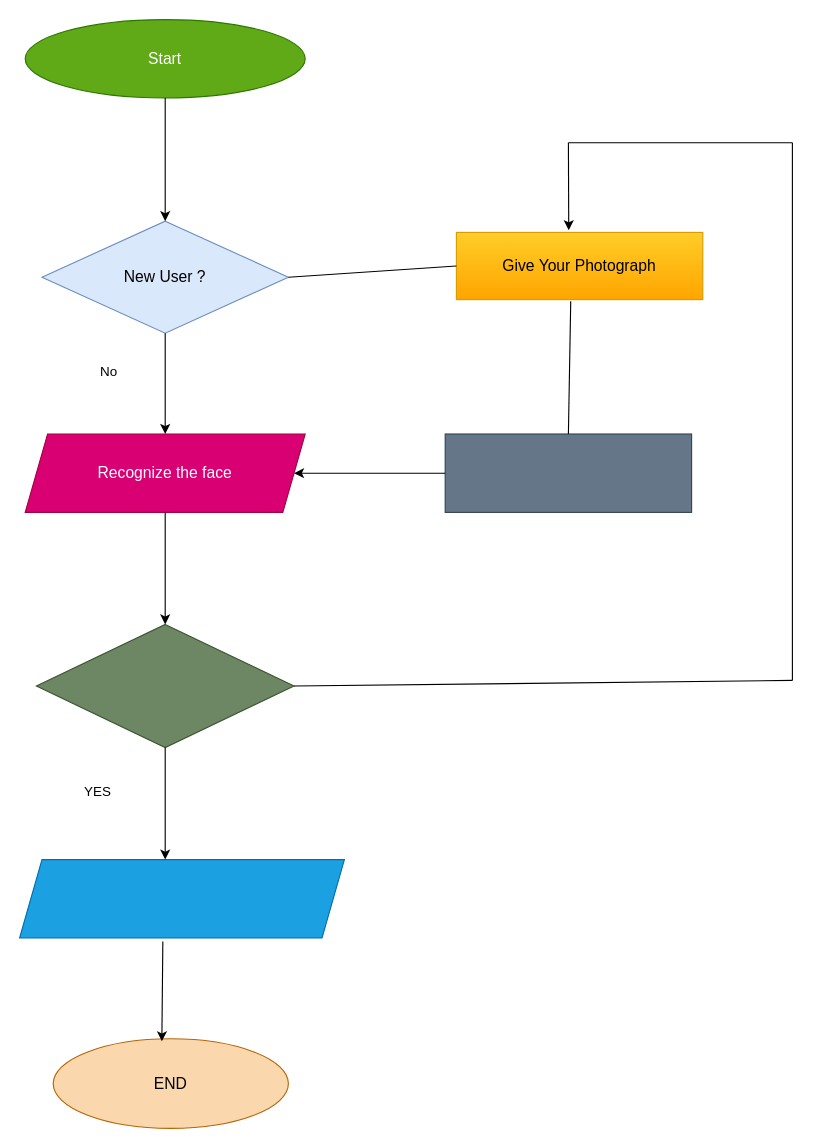
This 813x1148 diagram has some shape labels left out. The box of each missing label's shape, as (x1, y1, x2, y2) in pixels:
Face Recognized: (35, 623, 294, 748)
Store the face data in folder on your name: (444, 433, 692, 512)
Stored in CSV with Registration Number & Data Time of Entry: (18, 858, 344, 938)
